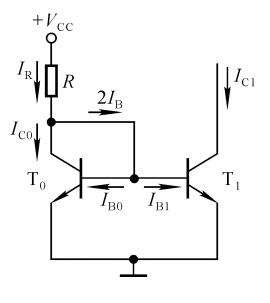res1: (43, 61, 60, 100)
triode: (45, 145, 86, 210), (181, 143, 222, 207)
